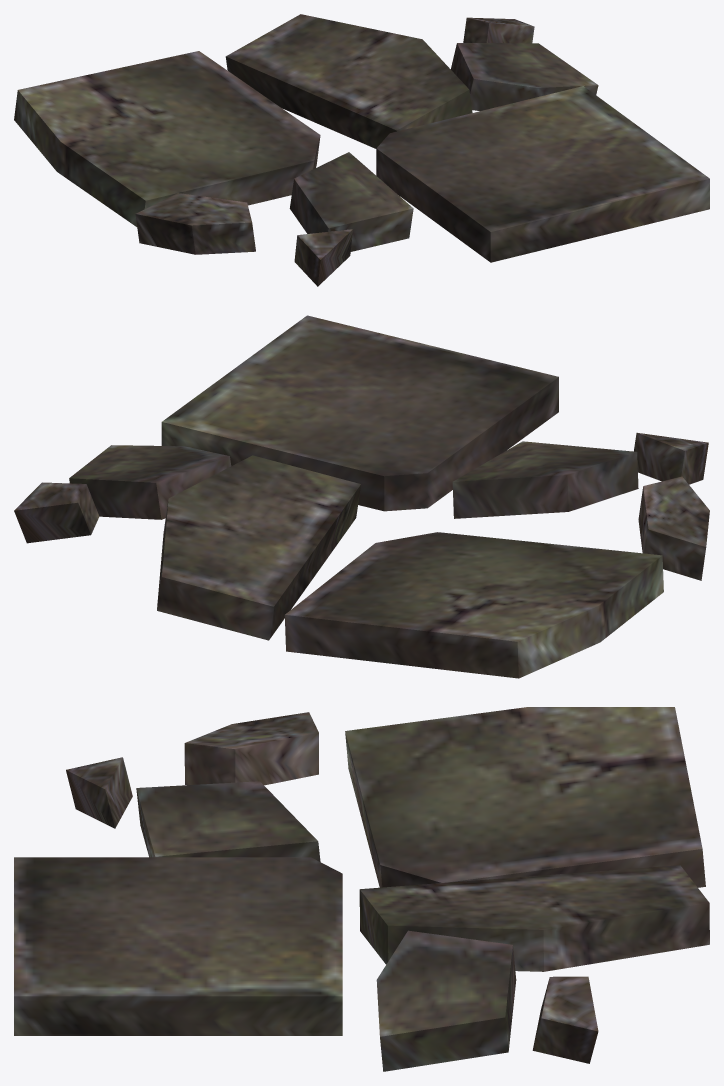
File: Scene_Floor_02.FBX
3 renders of one model, top to bottom at view 1: azimuth 30°, elevation 25°; view 2: azimuth 150°, elevation 25°; view 3: azimuth 270°, elevation 25°, orthographic. The views are drawn at different scales.
Parts seen in each view (by area): view 1: Scene_Floor_02; view 2: Scene_Floor_02; view 3: Scene_Floor_02.
Boxes of the visible parts, left/top/right/bottom form: Scene_Floor_02: left=14, top=14, right=709, bottom=286; Scene_Floor_02: left=14, top=315, right=709, bottom=678; Scene_Floor_02: left=14, top=707, right=709, bottom=1071.
Bounding box in the file's own units: 3.69 × 0.4593 × 3.49.
